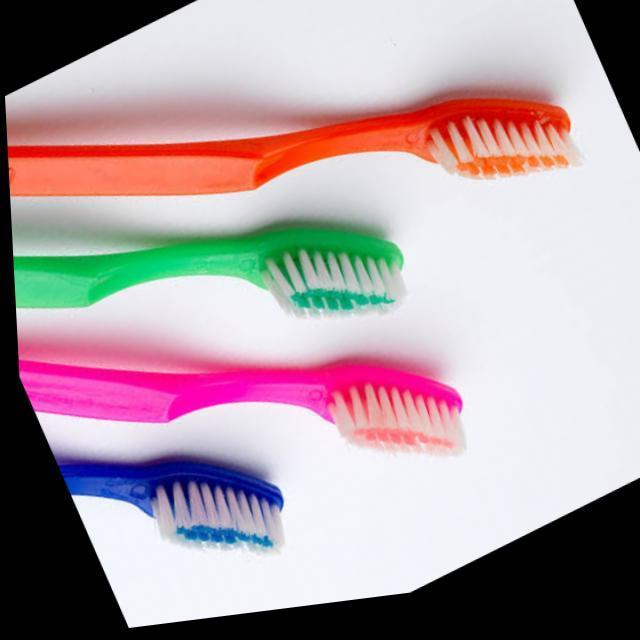toothbrush: (6, 114, 566, 200), (15, 354, 452, 464), (10, 224, 398, 326), (53, 458, 277, 556)
